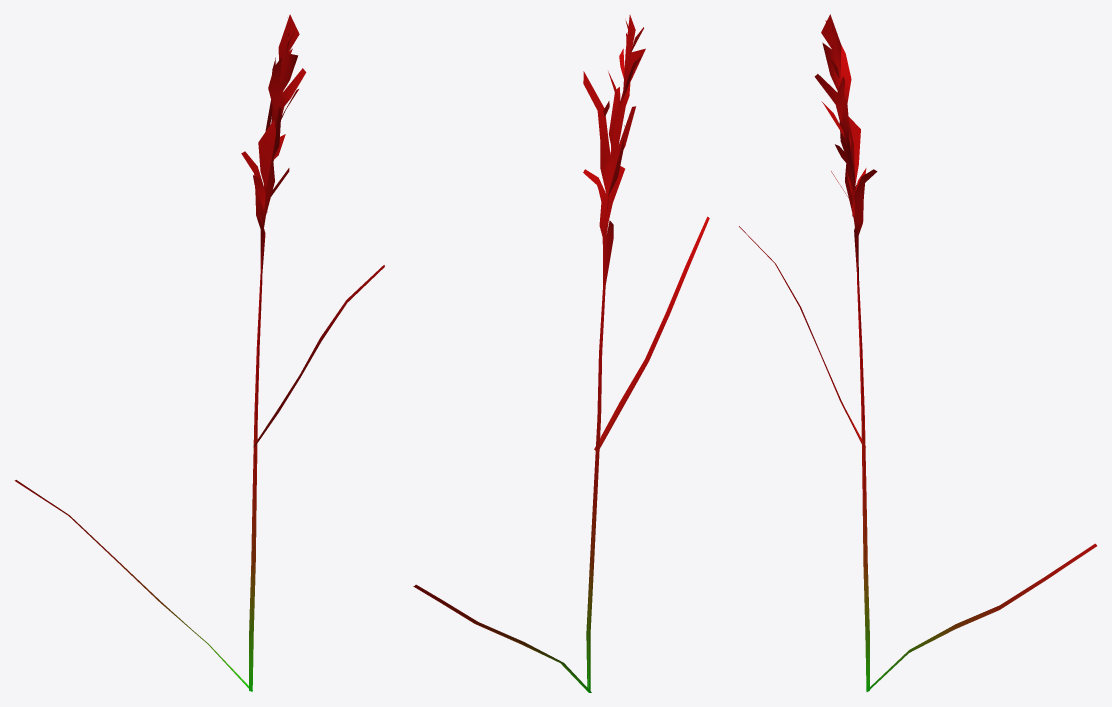
Rendered from Tundra Grass_LOD1_Var21_wk2oaeyqx.fbx.
The picture shows the model from 3 angles, left to right: view 1: azimuth 90°, elevation 25°; view 2: azimuth 150°, elevation 25°; view 3: azimuth 270°, elevation 25°; orthographic projection. The views are drawn at different scales.
Parts seen in each view (by area): view 1: _07jh_Var21_LOD1; view 2: _07jh_Var21_LOD1; view 3: _07jh_Var21_LOD1.
Part boxes in pixels (bbox=[...]): _07jh_Var21_LOD1: bbox=[14, 14, 384, 691]; _07jh_Var21_LOD1: bbox=[413, 15, 709, 692]; _07jh_Var21_LOD1: bbox=[739, 14, 1096, 691].
Bounding box in the file's own units: 6.53 × 35.68 × 17.39.
